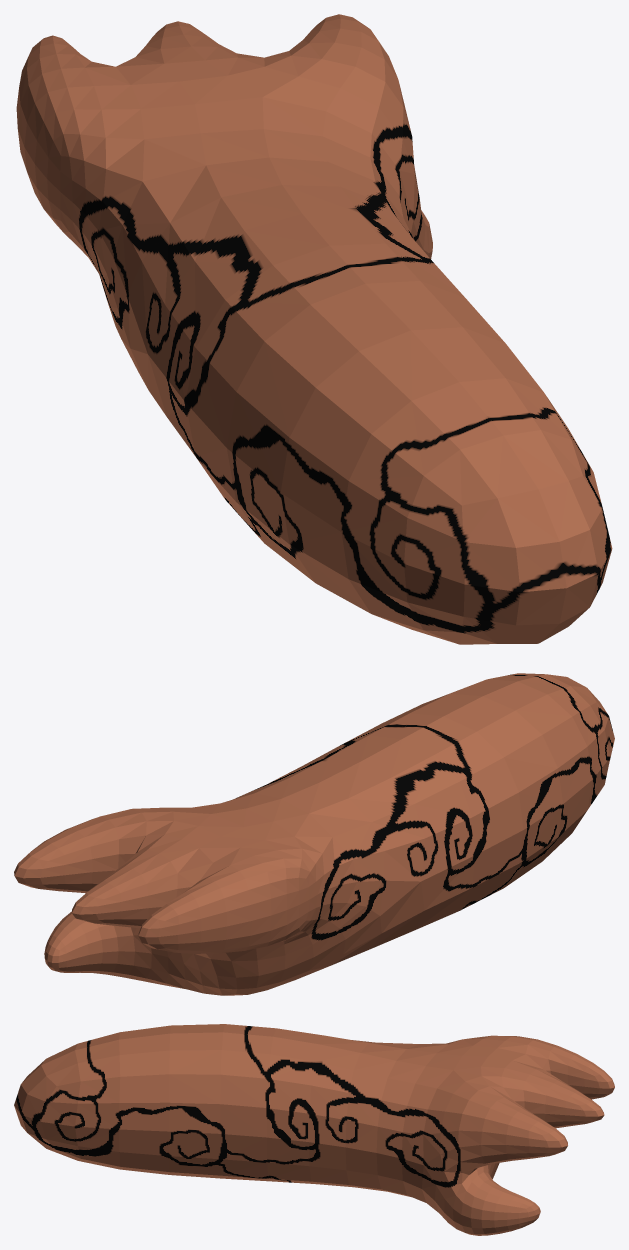
File: brazoDer.obj
The picture shows the model from 3 angles, top to bottom: view 1: azimuth 30°, elevation 25°; view 2: azimuth 150°, elevation 25°; view 3: azimuth 270°, elevation 25°; orthographic projection. The views are drawn at different scales.
Parts seen in each view (by area): view 1: Shukaku:Shukaku5; view 2: Shukaku:Shukaku5; view 3: Shukaku:Shukaku5.
Boxes of the visible parts, x1,y1,x2,y2 form: Shukaku:Shukaku5: (16,14,612,644); Shukaku:Shukaku5: (14,673,614,995); Shukaku:Shukaku5: (14,1024,614,1235).
Size of the model in its own units: 3.82 by 2.21 by 8.64.
